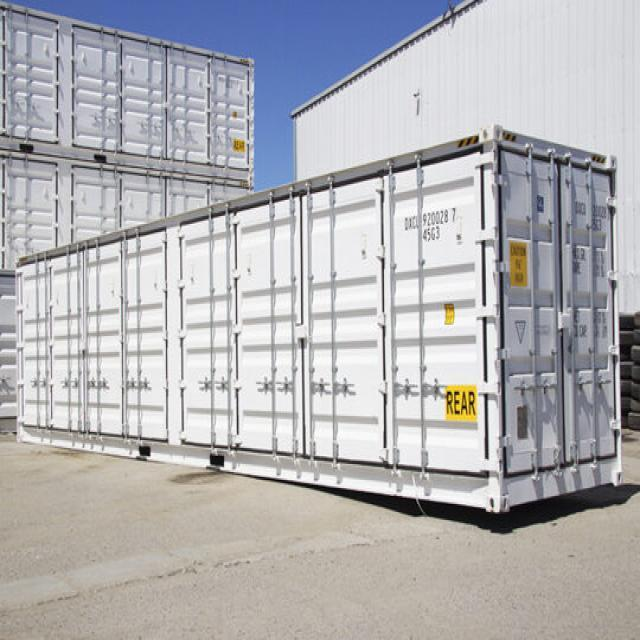container_number_h: (402, 205, 459, 248)
